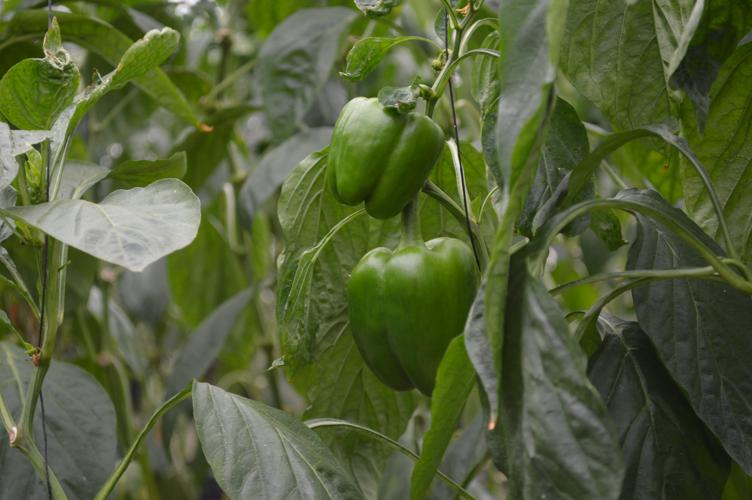BellPepper: (340, 239, 473, 390), (323, 96, 445, 218)
